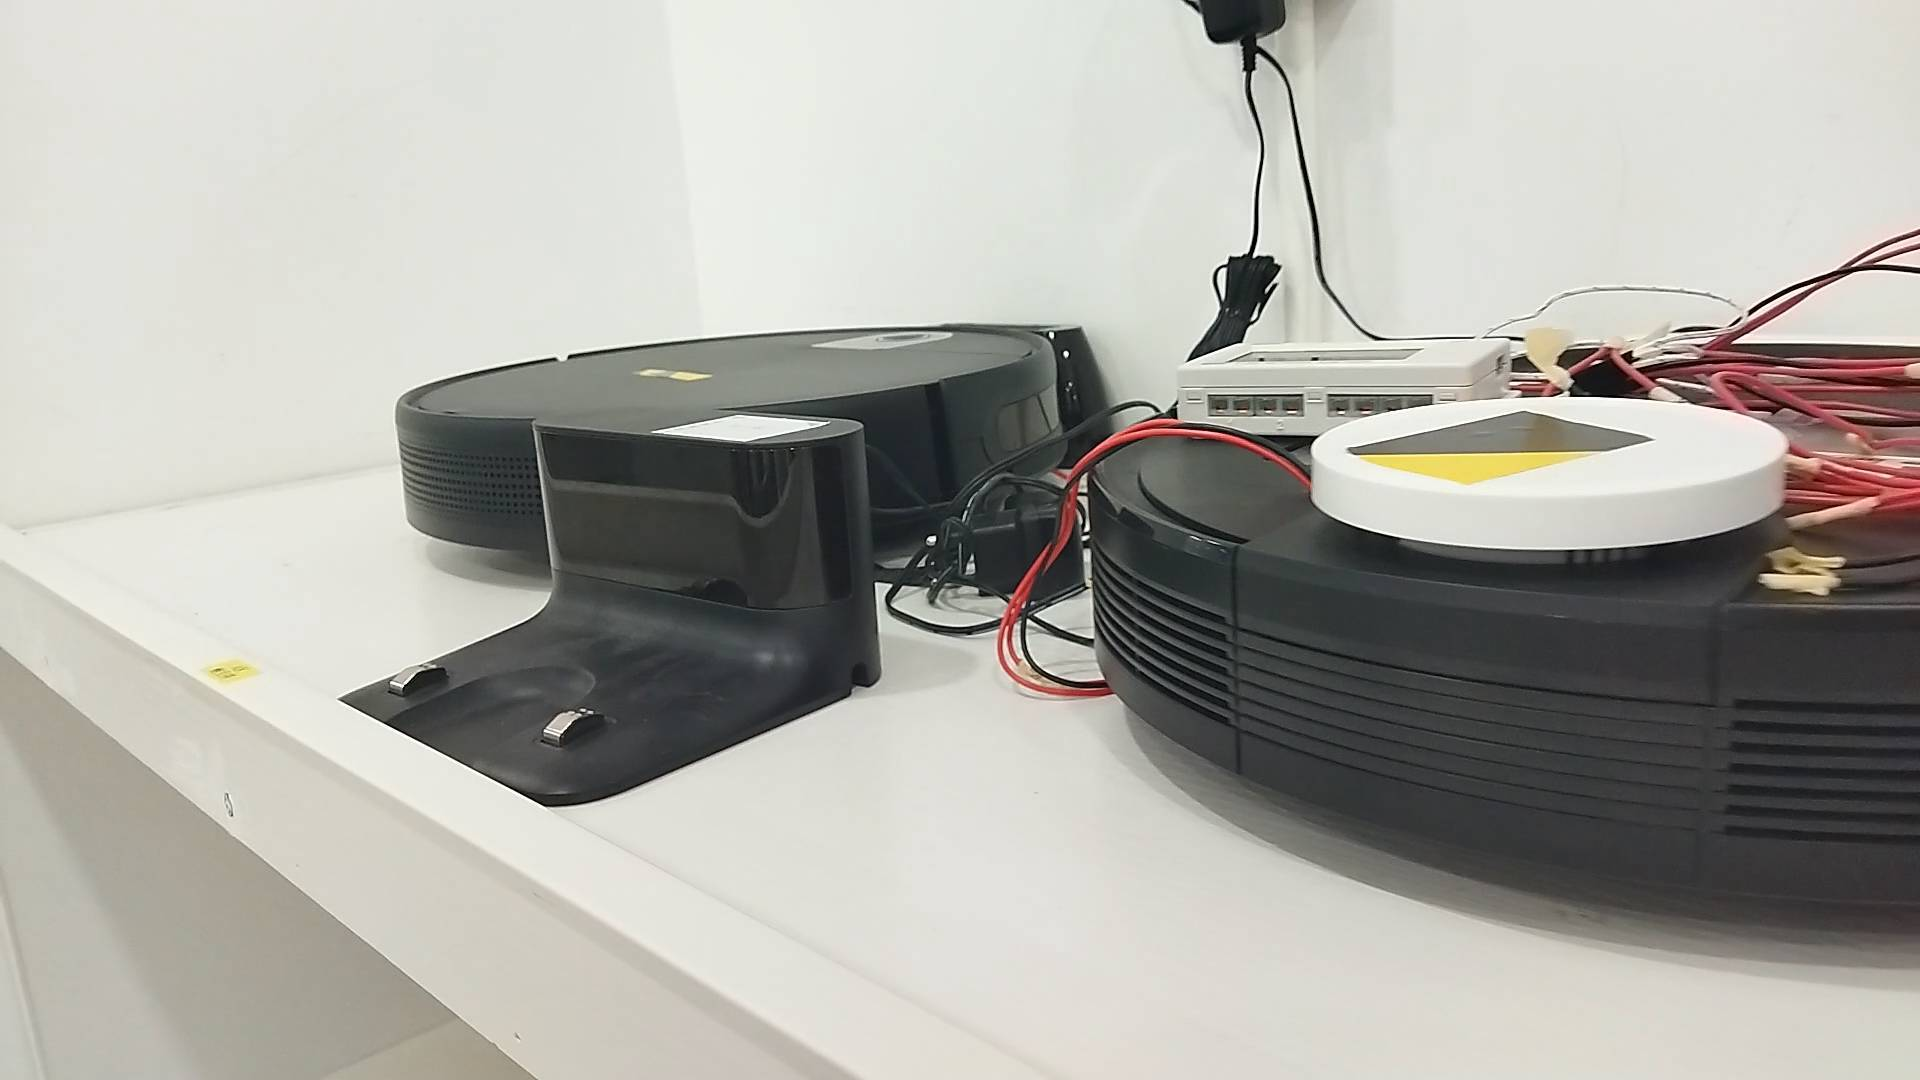recharge seat: (335, 406, 885, 806)
